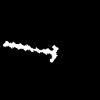half_double_crochet: (3, 41, 57, 61)
